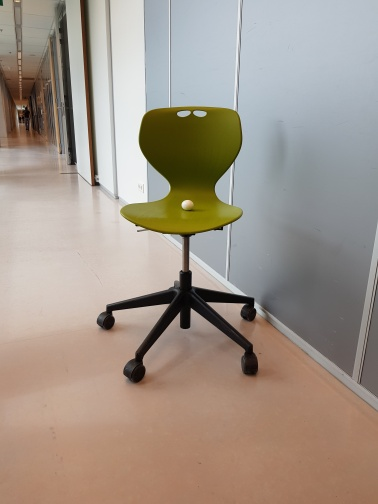egg: (180, 198, 196, 212)
